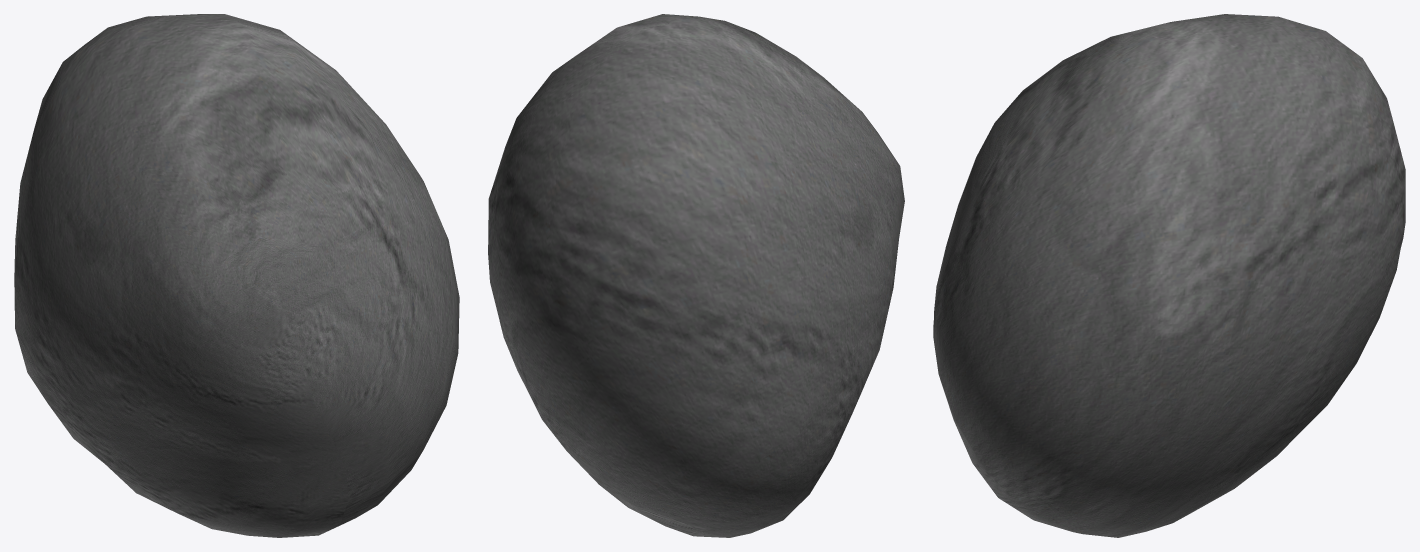
Rendered from Stone19Shape.dae.
3 views of the same model, side by side, from view 1: azimuth 30°, elevation 25°; view 2: azimuth 150°, elevation 25°; view 3: azimuth 270°, elevation 25° (orthographic). The views are drawn at different scales.
Parts seen in each view (by area): view 1: Stone19; view 2: Stone19; view 3: Stone19.
Part boxes in pixels (x1,y1,x2,y2): Stone19: [14, 14, 459, 537]; Stone19: [488, 14, 904, 537]; Stone19: [933, 14, 1405, 537].
Size of the model in its own units: 37.71 by 48.24 by 42.09.
